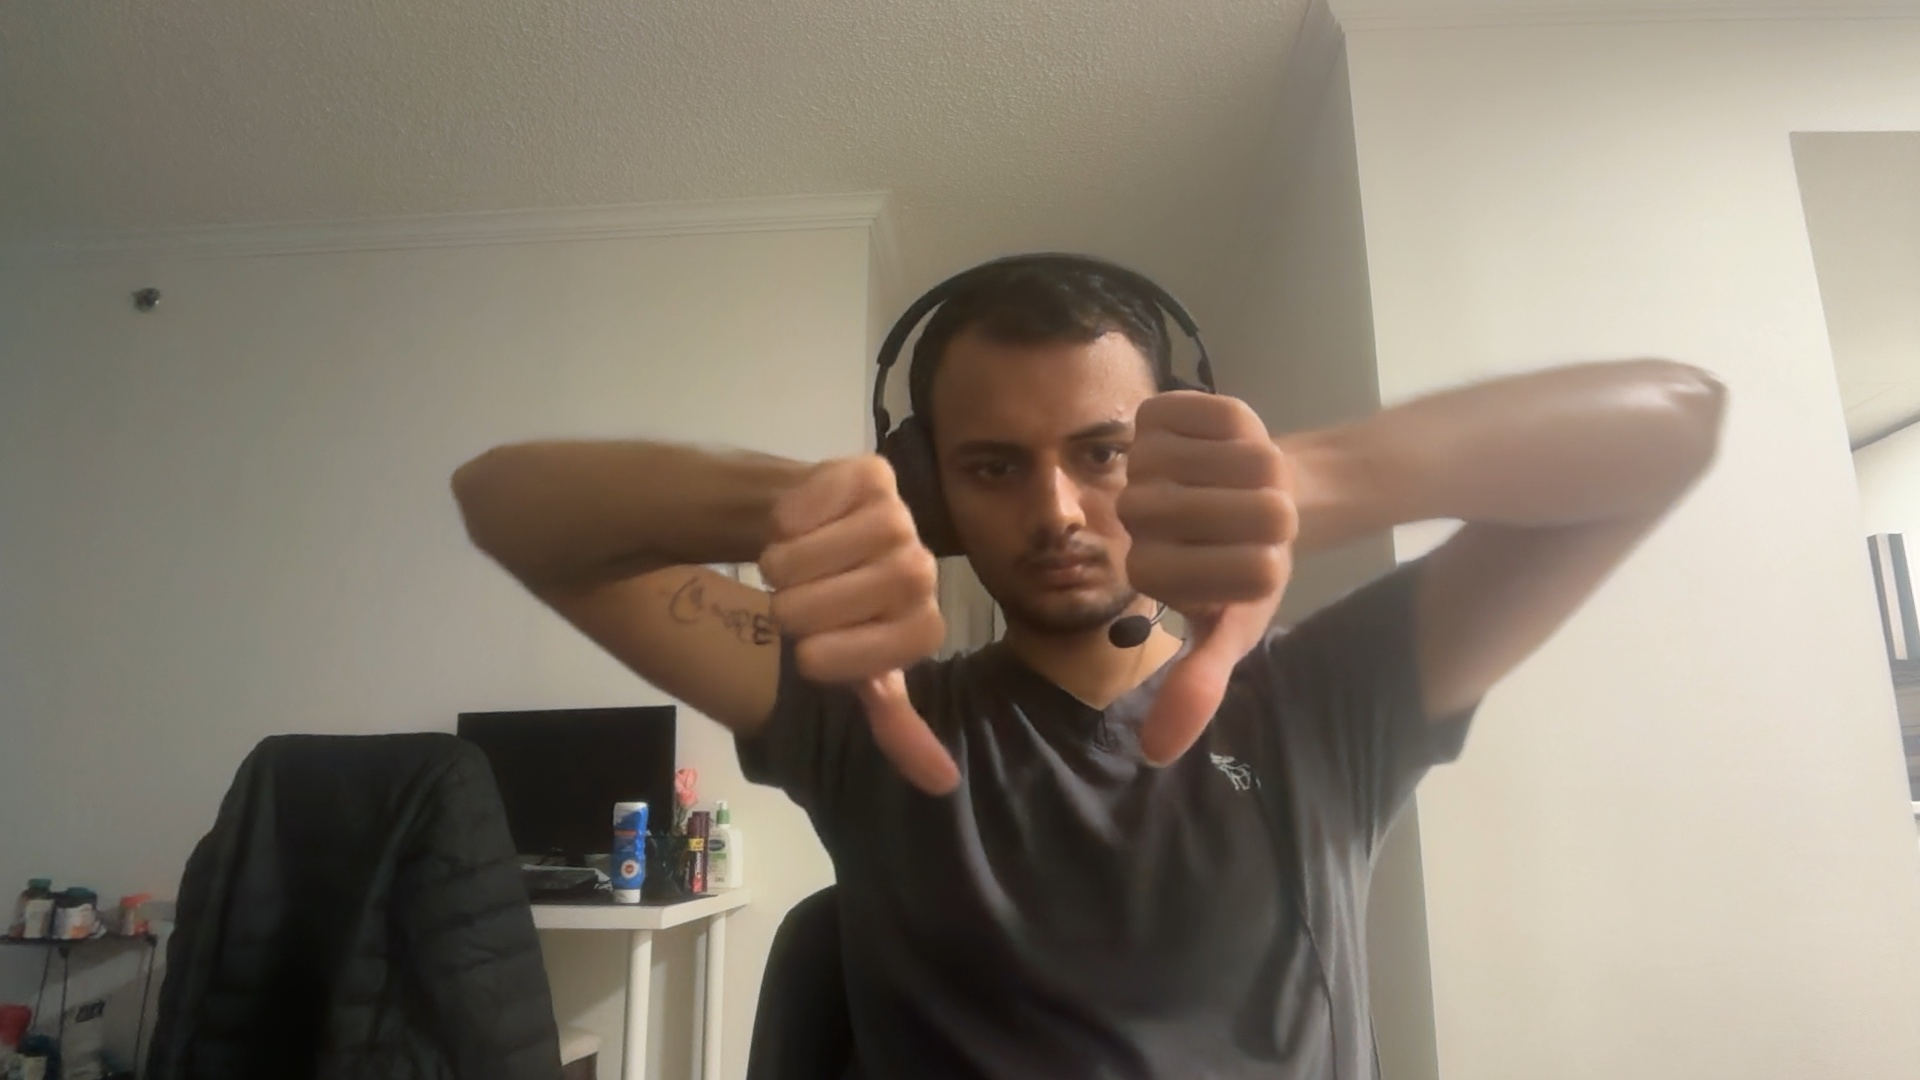thumbsdown: (758, 454, 965, 798)
